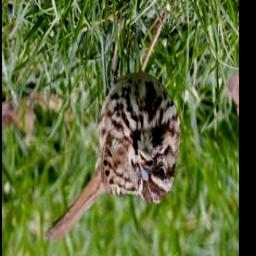Sparrow: (43, 28, 183, 245)
